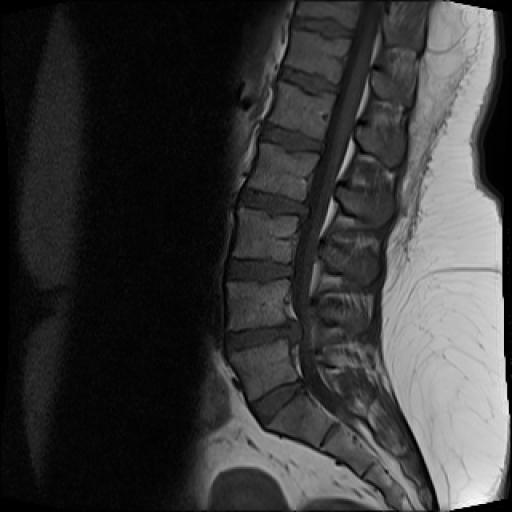L1: (268, 79, 335, 140)
L2: (248, 142, 319, 202)
L3: (232, 208, 299, 262)
L4: (227, 279, 288, 330)
L5: (227, 339, 298, 400)
S1: (267, 393, 333, 448)
